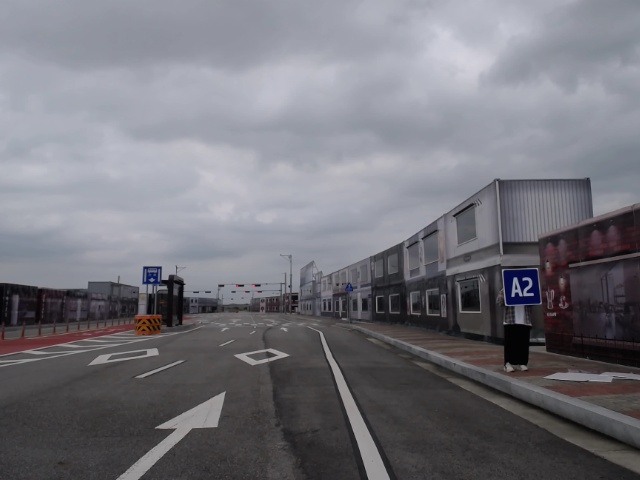delivery_a2: (502, 268, 542, 306)
